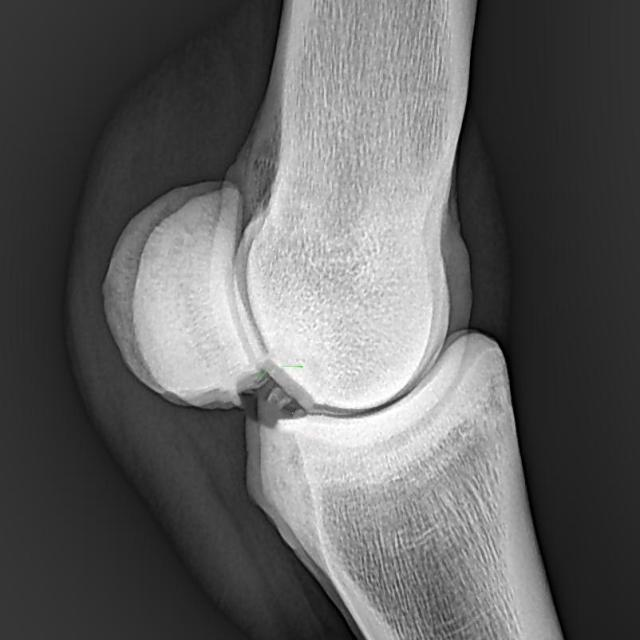bone remodeling: (199, 325, 352, 481)
